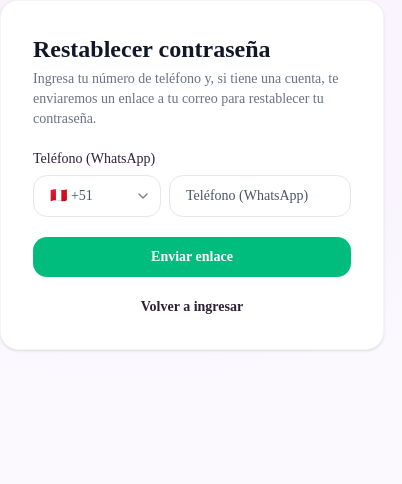
shows a validation error when the phone is empty
Click the button "Enviar enlace".
click(192, 257)  # box [33,237,351,277]
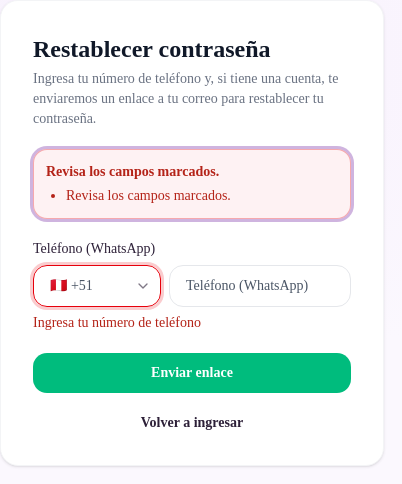
expect the text "Ingresa tu número de teléfono" is shown: met, box [33,315,201,330]
